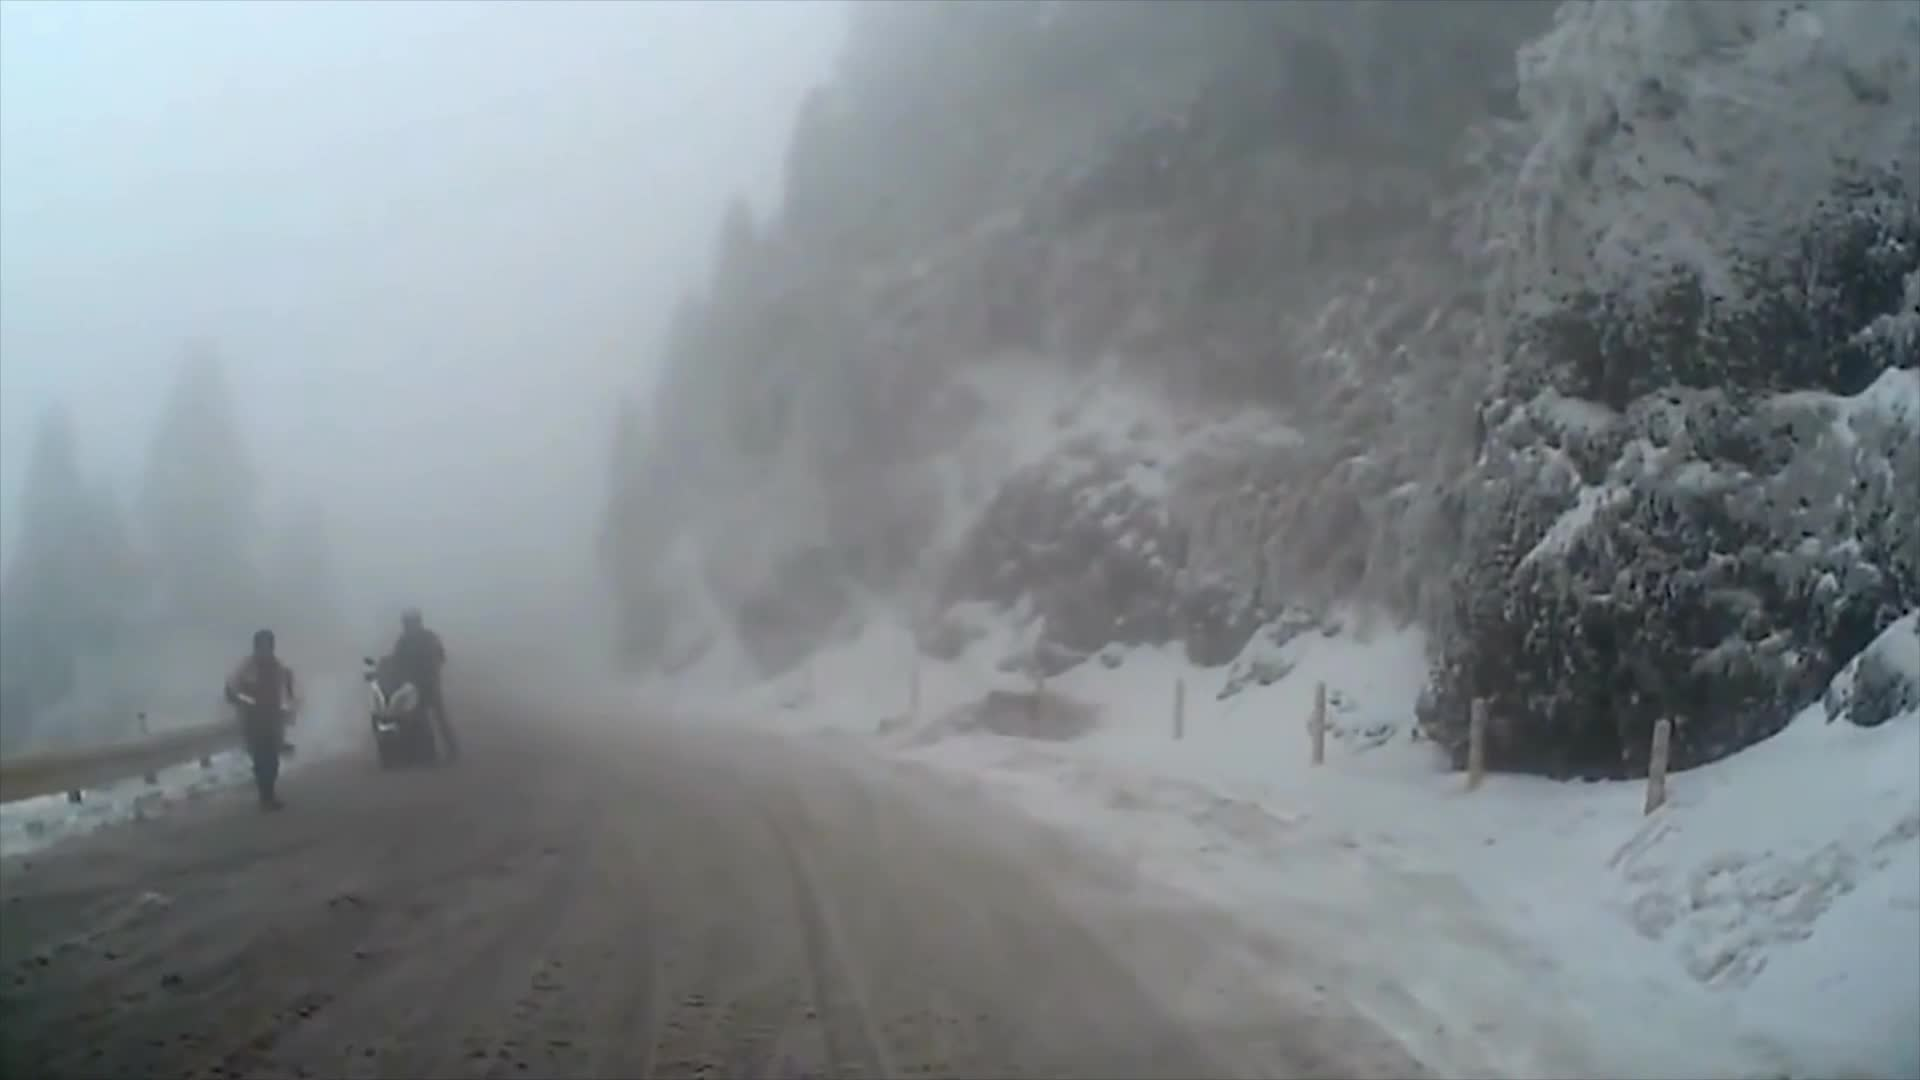pedestrian: (222, 632, 299, 815), (379, 608, 463, 773)
